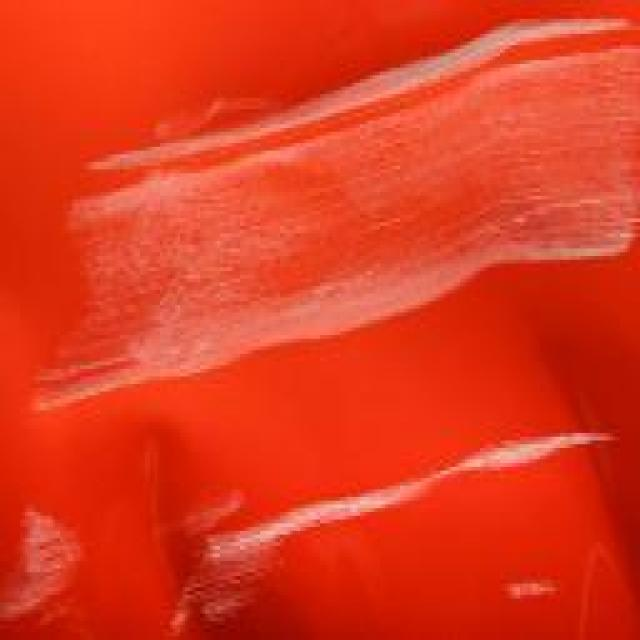Door: (0, 15, 640, 640)
